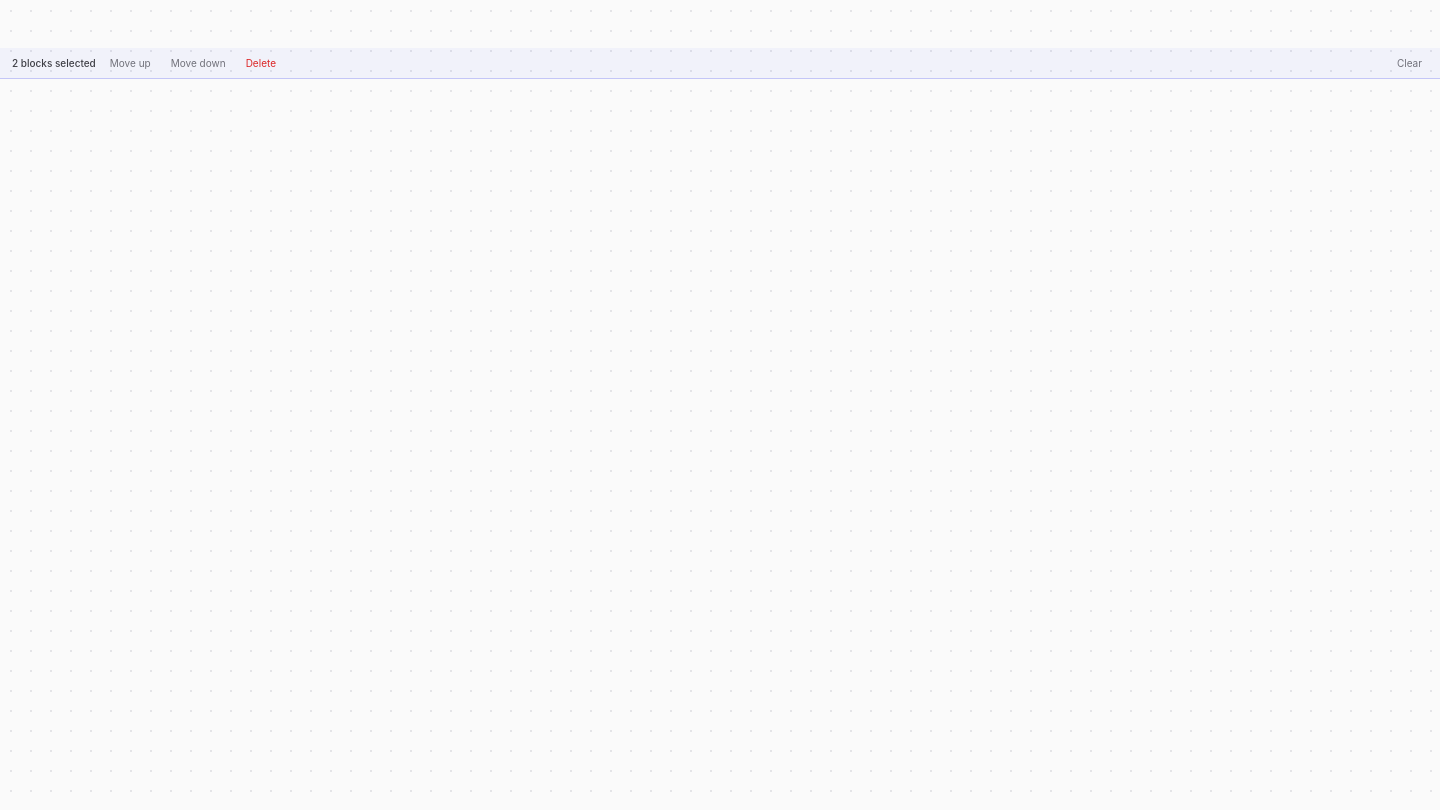
Test: multi-select bulk actions (U3b) › refuses a group move when the selection is non-contiguous
This screenshot has width=1440, height=810.
Click the button "Move up" at (130, 63), box [104, 54, 157, 72]
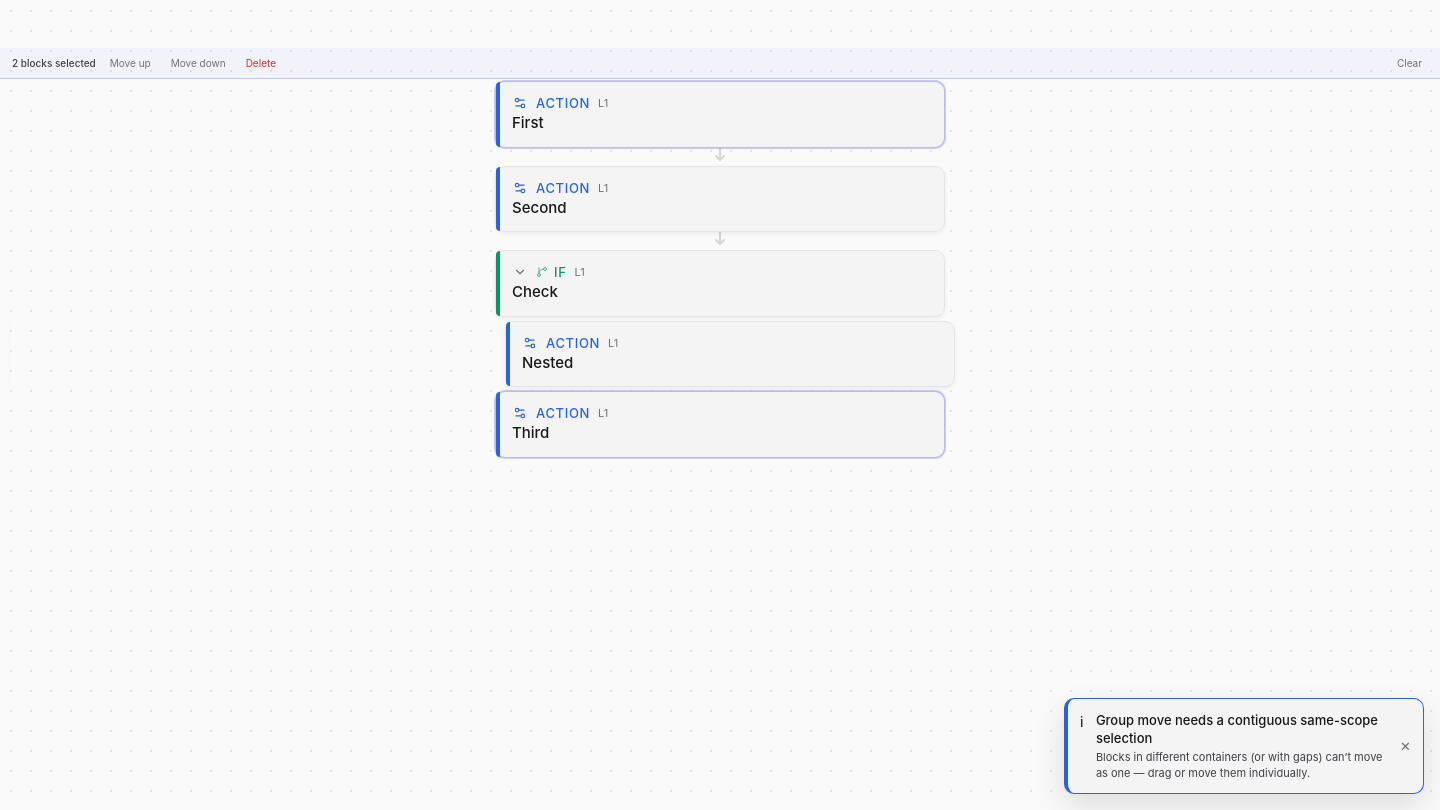
Now the text "Group move needs a contiguous same-scope selection" is shown, box [1096, 711, 1388, 747]
